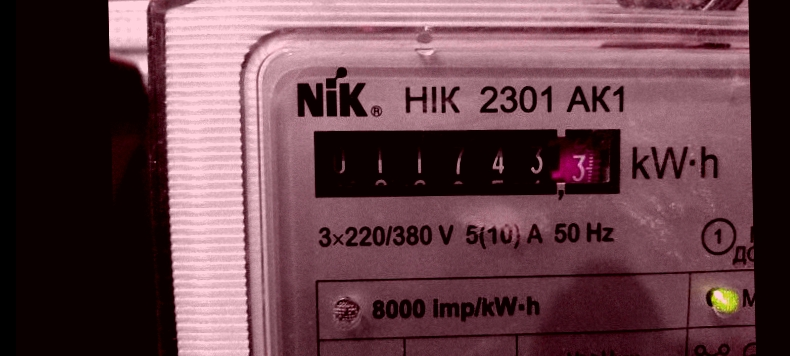0: (328, 141, 348, 177)
1: (411, 140, 427, 175), (374, 141, 385, 174)
3: (526, 141, 545, 176), (570, 152, 588, 185)
4: (489, 141, 506, 176)
7: (450, 141, 468, 176)
screen: (299, 112, 635, 213)
